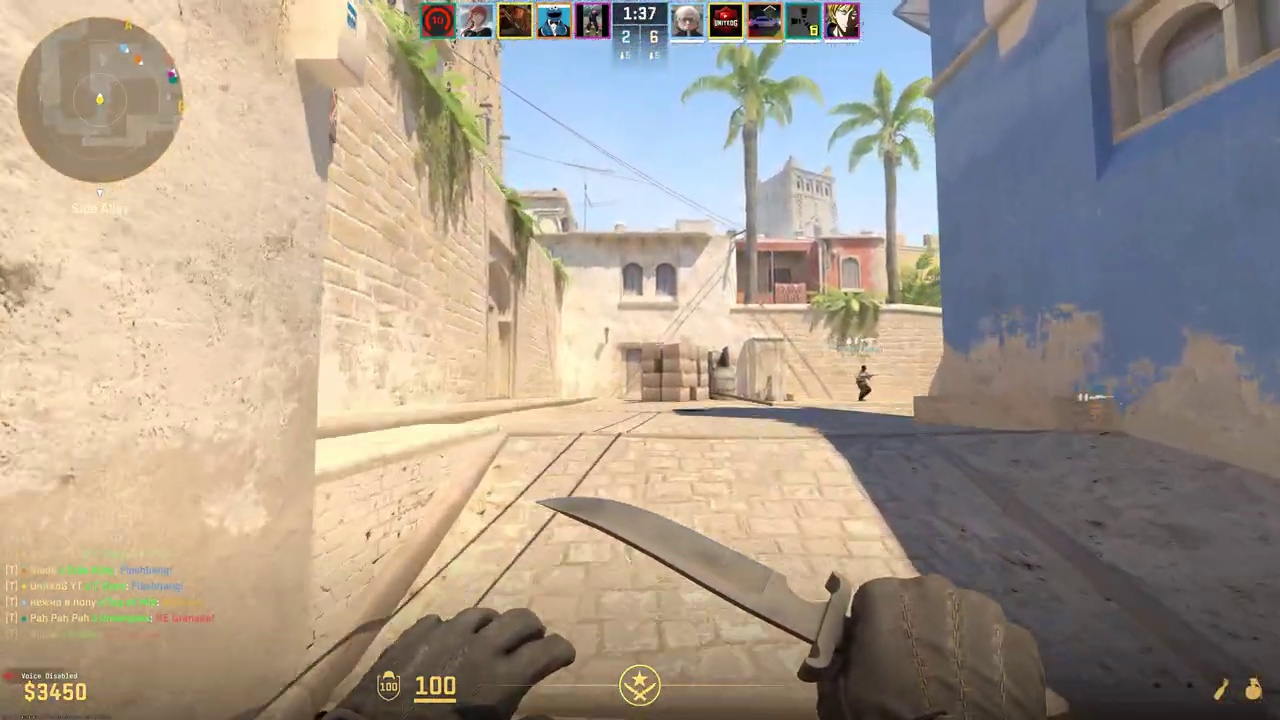Terrorist: (856, 365, 872, 401)
